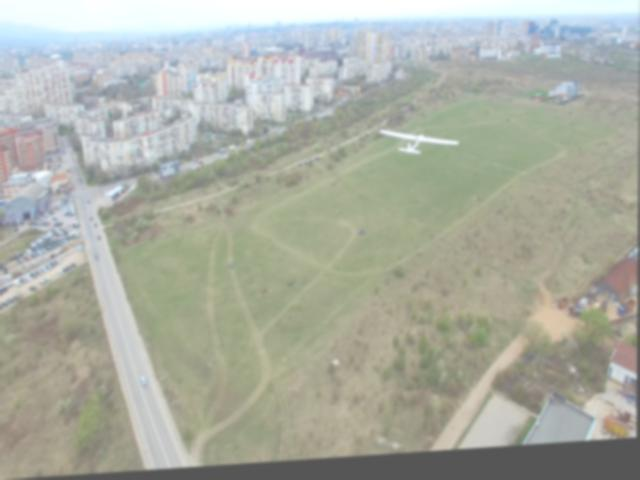plane: (379, 126, 460, 162)
